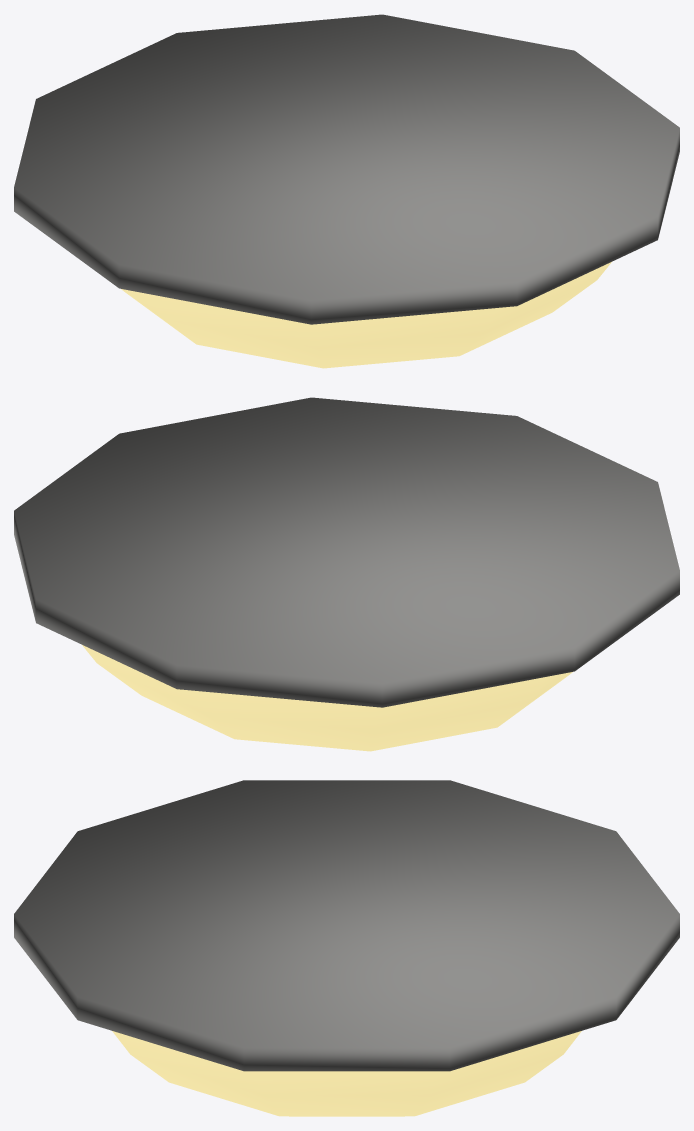
Rendered from Light_Ceiling5.glb.
3 renders of one model, top to bottom at view 1: azimuth 30°, elevation 25°; view 2: azimuth 150°, elevation 25°; view 3: azimuth 270°, elevation 25°, orthographic. The views are drawn at different scales.
Parts seen in each view (by area): view 1: Light_Ceiling5; view 2: Light_Ceiling5; view 3: Light_Ceiling5.
Boxes of the visible parts, bbox=[...] form: Light_Ceiling5: bbox=[14, 14, 679, 368]; Light_Ceiling5: bbox=[14, 397, 679, 751]; Light_Ceiling5: bbox=[14, 780, 679, 1116].
Bounding box in the file's own units: 0.5311 × 0.1363 × 0.5584.
